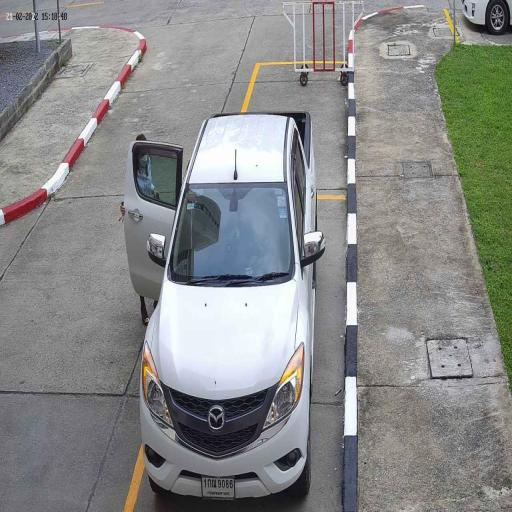car: (138, 107, 320, 512)
